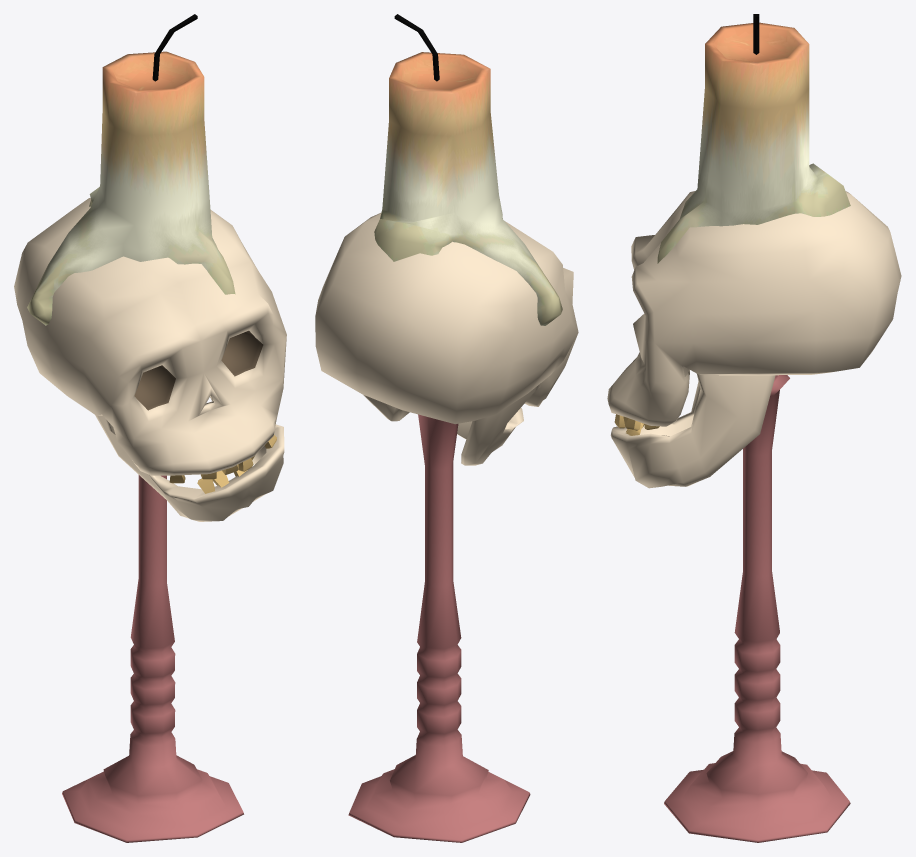
The model's file is mum.fbx.
3 views of the same model, side by side, from view 1: azimuth 30°, elevation 25°; view 2: azimuth 150°, elevation 25°; view 3: azimuth 270°, elevation 25° (orthographic). The views are drawn at different scales.
Parts seen in each view (by area): view 1: Candle_Skull; view 2: Candle_Skull; view 3: Candle_Skull.
Part boxes in pixels (x1,y1,x2,y2): Candle_Skull: (14,14,286,842); Candle_Skull: (315,14,578,842); Candle_Skull: (607,14,901,842).
Size of the model in its own units: 3186 by 10820 by 3566.
6 materials, 1 textured.
